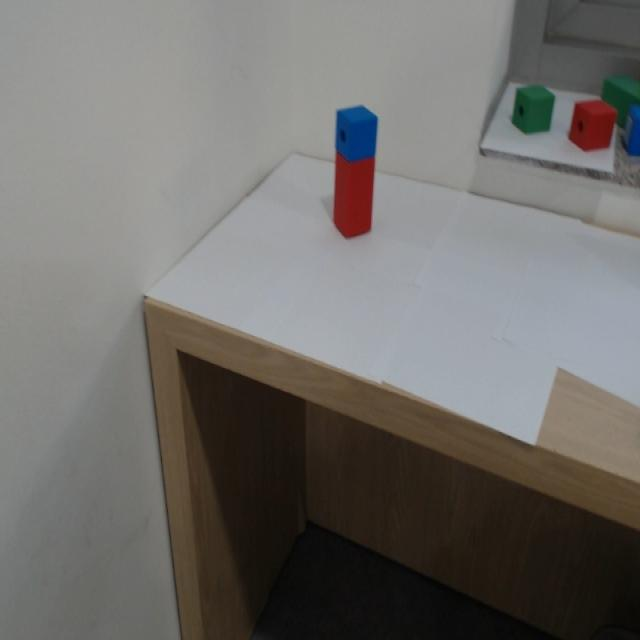cube: (330, 98, 379, 159), (370, 213, 385, 245)
